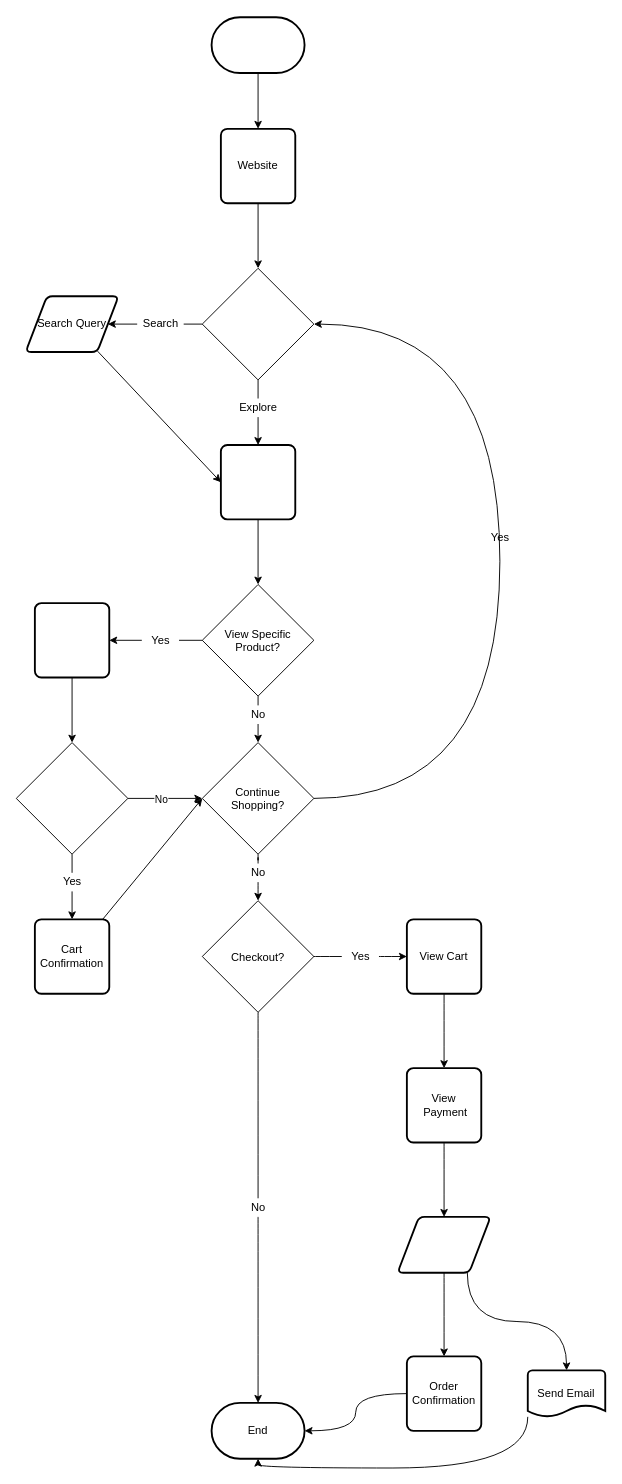
This 622x1484 diagram has some shape labels left out. The shapes that lost their labels are listed below. From the top down, each one's centre as x and y in pixels, then its label:
the point at 257,44: Start
the point at 257,323: Search or Explore Home Page
the point at 257,482: Products Overview
the point at 71,640: Specific Product Webpage
the point at 71,798: Add to Cart?
the point at 443,1244: Payment Information
